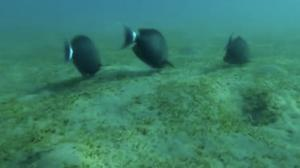Acanthuridae -Surgeonfishes-: (123, 24, 177, 74), (63, 31, 102, 78), (219, 26, 257, 67)
